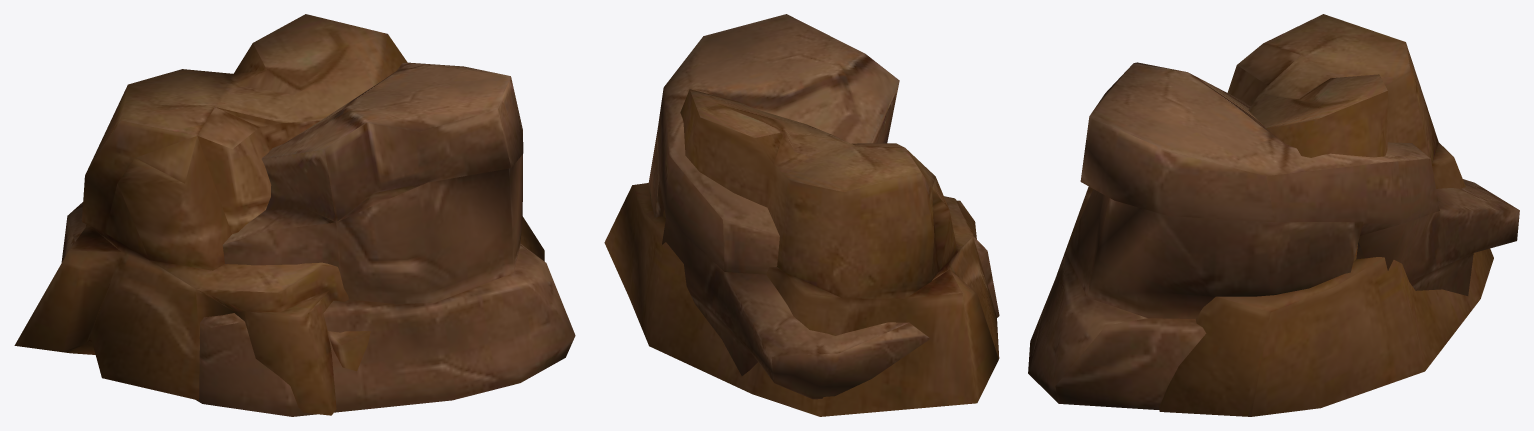
The model's file is Anmaodao_shitou01.FBX.
The picture shows the model from 3 angles, left to right: view 1: azimuth 30°, elevation 25°; view 2: azimuth 150°, elevation 25°; view 3: azimuth 270°, elevation 25°; orthographic projection. The views are drawn at different scales.
Parts seen in each view (by area): view 1: Anmaodao_shitou01, Anmaodao_shitou02; view 2: Anmaodao_shitou02, Anmaodao_shitou01; view 3: Anmaodao_shitou01, Anmaodao_shitou02.
Boxes of the visible parts, box(x1,y1,x2,y2) form: Anmaodao_shitou01: box(61, 62, 575, 416); Anmaodao_shitou02: box(14, 14, 544, 415); Anmaodao_shitou02: box(604, 89, 999, 416); Anmaodao_shitou01: box(648, 14, 999, 399); Anmaodao_shitou01: box(1028, 62, 1519, 410); Anmaodao_shitou02: box(1057, 14, 1493, 416).
Size of the model in its own units: 20.04 by 10.29 by 17.4.
